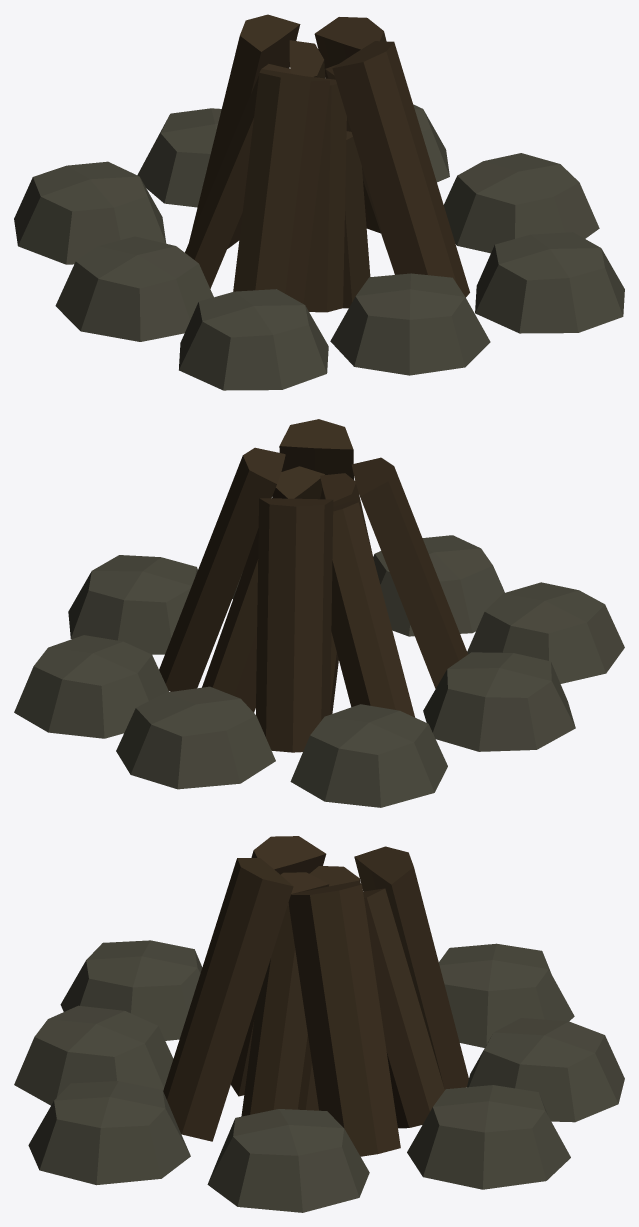
File: Bonfire.fbx
3 renders of one model, top to bottom at view 1: azimuth 30°, elevation 25°; view 2: azimuth 150°, elevation 25°; view 3: azimuth 270°, elevation 25°, orthographic. The views are drawn at different scales.
Visible parts, largest first — view 1: Bonfire; view 2: Bonfire; view 3: Bonfire.
Part boxes in pixels (<box>): Bonfire: <box>14,14,624,390</box>; Bonfire: <box>14,419,624,807</box>; Bonfire: <box>14,836,624,1212</box>.
Size of the model in its own units: 86.48 by 43.82 by 87.91.
